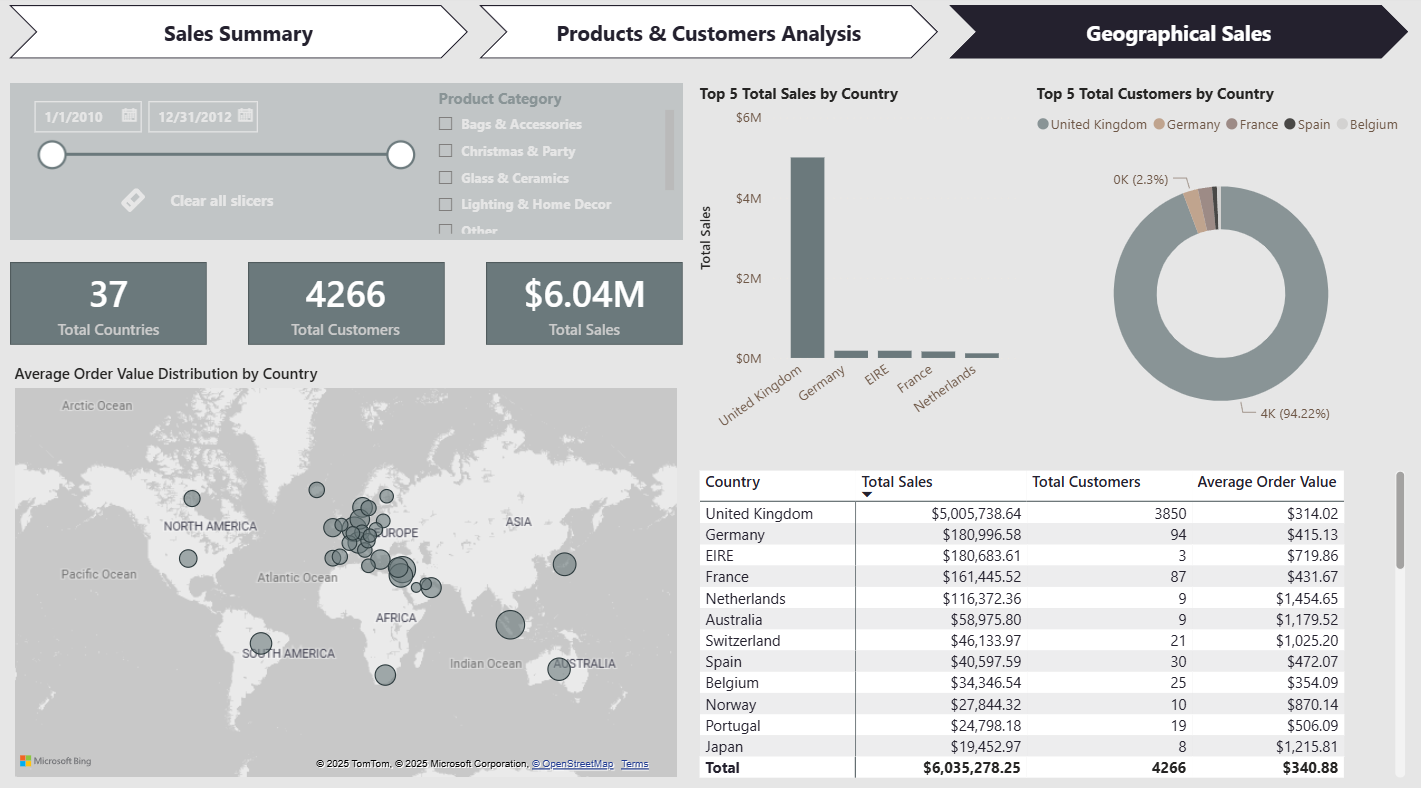

This screenshot's page, from the dashboard's own definition file:
{"tool":"powerbi","page":{"name":"Geographical Sales","canvas":[1280,720],"ordinal":2},"visuals":[{"type":"pageNavigator","box":[12.5,8.1,1255.5,48.4],"z":0},{"type":"shape","box":[13.4,238.2,176.4,74.3],"z":1000},{"type":"shape","box":[226.6,238.2,176.4,74.3],"z":2000},{"type":"shape","box":[439.7,238.2,176.4,74.3],"z":3000},{"type":"card","fields":{"Values":["Metrics.Total Countries"]},"box":[22.4,238.2,158.5,74.3],"z":4000},{"type":"card","fields":{"Values":["Metrics.Total Customers"]},"box":[234.6,238.2,158.5,74.3],"z":5000},{"type":"card","fields":{"Values":["Metrics.Total Sales"]},"box":[448.7,238.2,158.5,74.3],"z":6000},{"type":"map","title":"Average Order Value Distribution by Country","fields":{"Category":["countries.Country"],"Size":["Metrics.Average Order Value"]},"box":[12.5,328.7,602.7,376.1],"z":7000},{"type":"donutChart","title":"Top 5 Total Customers by Country","fields":{"Category":["countries.Country"],"Y":["Metrics.Total Customers"]},"box":[927.8,77.9,340.3,332.2],"z":8000},{"type":"pivotTable","fields":{"Values":["Metrics.Total Sales","Metrics.Total Customers","Metrics.Average Order Value"],"Rows":["countries.Country"]},"box":[626,420,642.1,284.8],"z":9000},{"type":"shape","box":[13.4,77.9,602.7,140.6],"z":10000},{"type":"slicer","fields":{"Values":["Calendar.Date"]},"box":[22.4,84.2,361.8,84.2],"z":11000},{"type":"slicer","fields":{"Values":["products.ProductCategory"]},"box":[384.2,77.9,229.3,139.7],"z":12000},{"type":"actionButton","box":[109.3,168.4,188.1,28.7],"z":13000},{"type":"clusteredColumnChart","title":"Top 5 Total Sales by Country","fields":{"Category":["countries.Country"],"Y":["Metrics.Total Sales"]},"box":[626,77.9,294.6,332.2],"z":14000}]}

Visuals, with their boxes in screenshot pixels (x1, y1, x2, y2), scaled from the page's 1280x720 canvas onto the 1421x788 screenshot:
pageNavigator: bbox=[14, 9, 1408, 62]
shape: bbox=[15, 261, 211, 342]
shape: bbox=[252, 261, 447, 342]
shape: bbox=[488, 261, 684, 342]
card - Metrics.Total Countries: bbox=[25, 261, 201, 342]
card - Metrics.Total Customers: bbox=[260, 261, 436, 342]
card - Metrics.Total Sales: bbox=[498, 261, 674, 342]
"Average Order Value Distribution by Country" map: bbox=[14, 360, 683, 771]
"Top 5 Total Customers by Country" donutChart: bbox=[1030, 85, 1408, 449]
pivotTable - Metrics.Total Sales x Metrics.Total Customers: bbox=[695, 460, 1408, 771]
shape: bbox=[15, 85, 684, 239]
slicer - Calendar.Date: bbox=[25, 92, 427, 184]
slicer - products.ProductCategory: bbox=[427, 85, 681, 238]
actionButton: bbox=[121, 184, 330, 216]
"Top 5 Total Sales by Country" clusteredColumnChart: bbox=[695, 85, 1022, 449]
